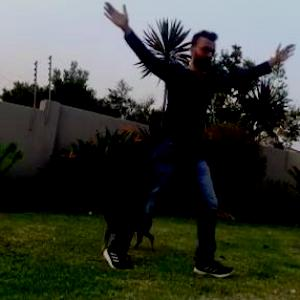takeoff: (92, 26, 268, 244)
